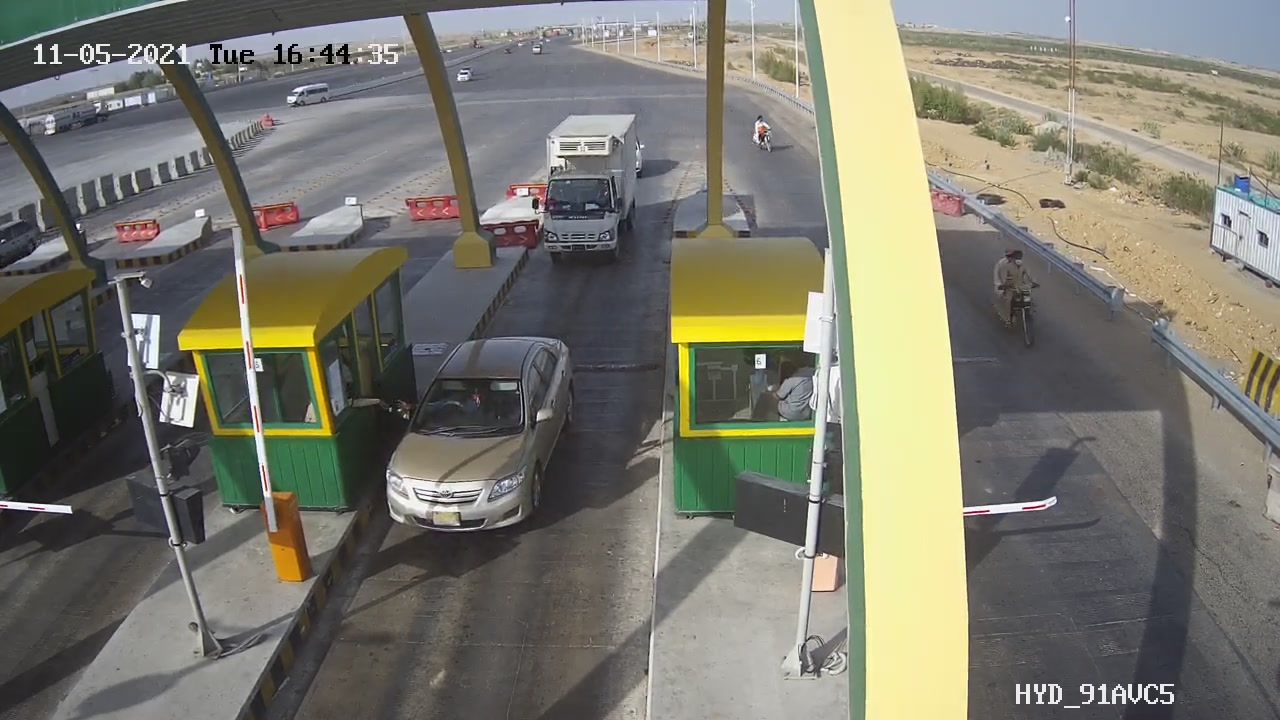F1: (359, 318, 606, 558)
